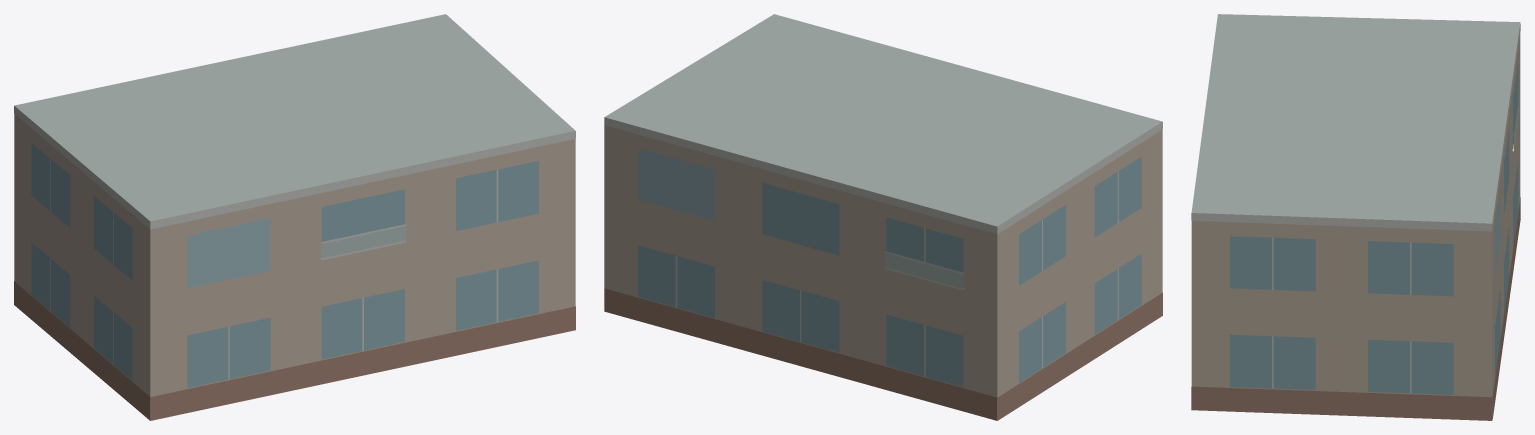
Rendered from survey-upis-32608683.glb.
3 renders of one model, left to right at view 1: azimuth 30°, elevation 25°; view 2: azimuth 150°, elevation 25°; view 3: azimuth 270°, elevation 25°, orthographic. The views are drawn at different scales.
Parts seen in each view (by area): view 1: survey-upis-32608683.tmp; view 2: survey-upis-32608683.tmp; view 3: survey-upis-32608683.tmp.
Boxes of the visible parts, left/top/right/bottom form: survey-upis-32608683.tmp: left=14, top=14, right=575, bottom=420; survey-upis-32608683.tmp: left=604, top=14, right=1162, bottom=420; survey-upis-32608683.tmp: left=1191, top=14, right=1520, bottom=420.
Size of the model in its own units: 13.92 by 6.1 by 9.24.
